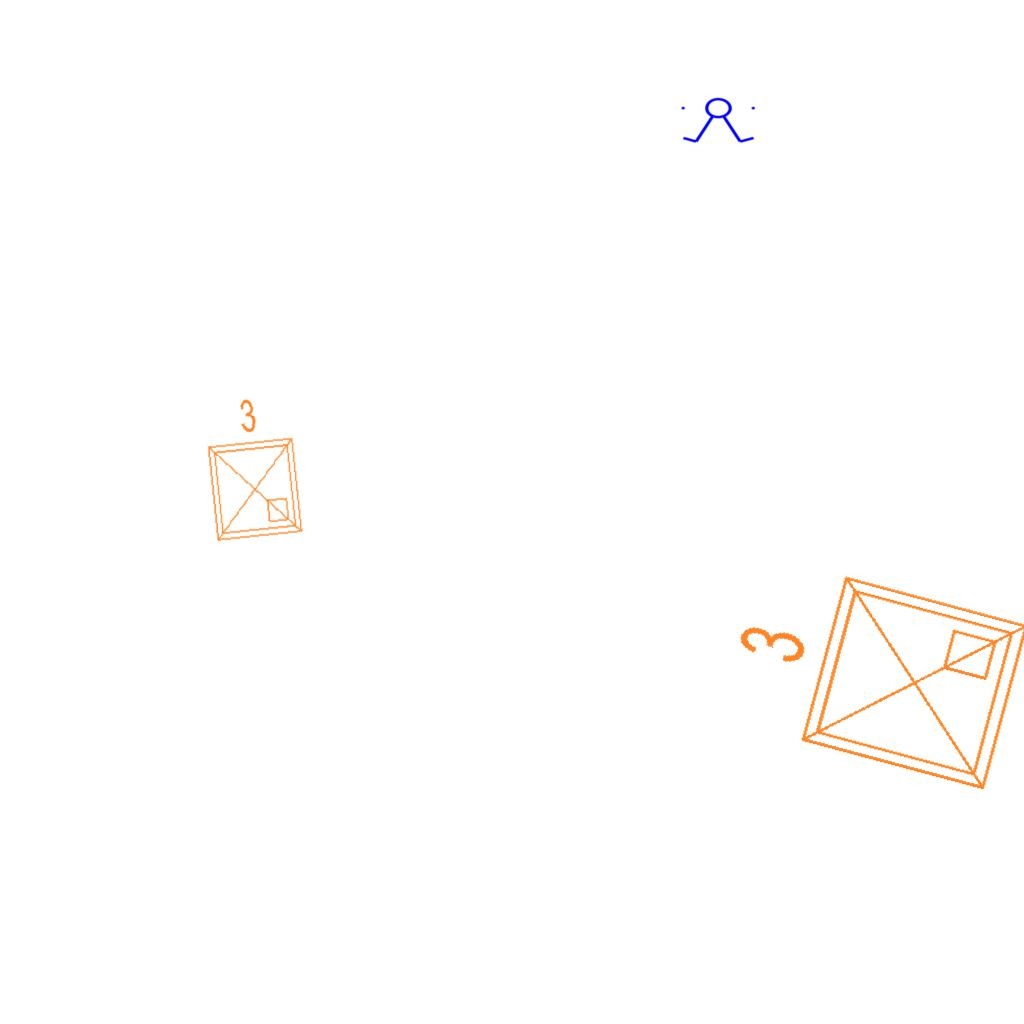Einbaudownlights_LED_Konferenzraeume: (702, 536, 1024, 816), (191, 388, 311, 550)
Serienschalter: (677, 97, 761, 145)
